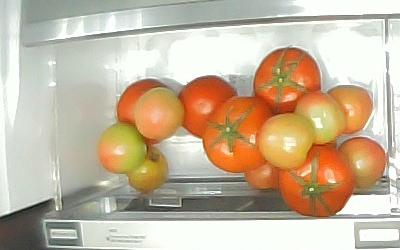tomato: (279, 144, 354, 217), (204, 96, 271, 173), (253, 45, 322, 114), (179, 75, 239, 138), (116, 79, 168, 145), (258, 113, 316, 170), (293, 90, 346, 144), (134, 87, 183, 141), (100, 121, 147, 176), (340, 136, 385, 191), (327, 85, 373, 134), (127, 146, 168, 194), (245, 160, 282, 192)
